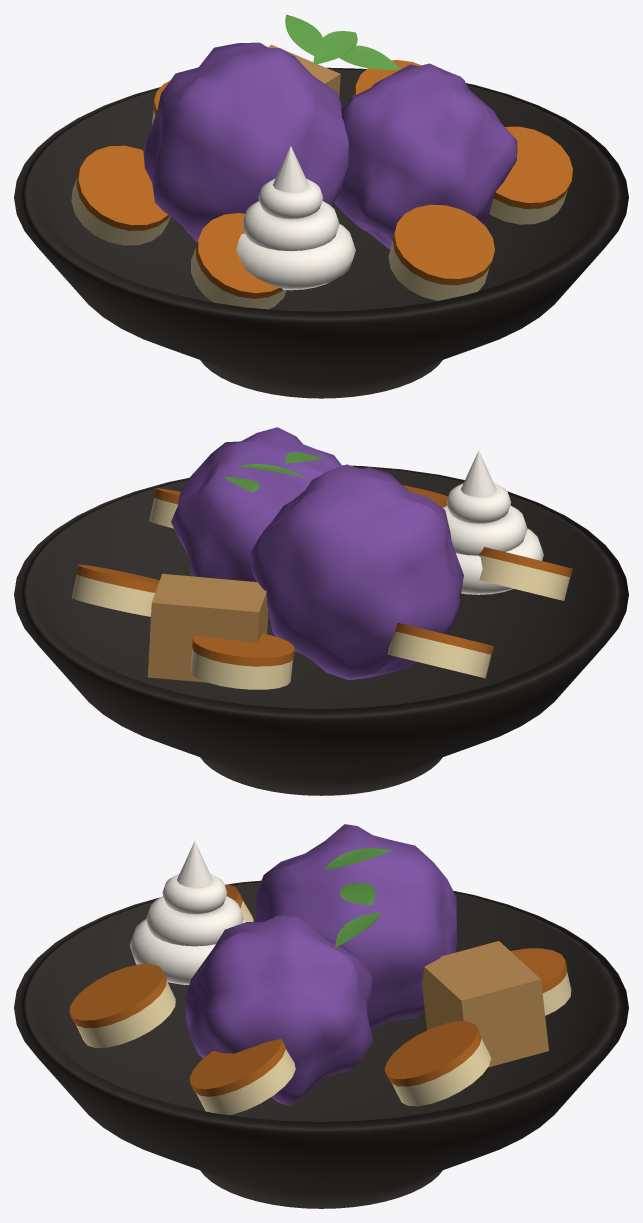
Rendered from banana-sundae.glb.
3 renders of one model, top to bottom at view 1: azimuth 30°, elevation 25°; view 2: azimuth 150°, elevation 25°; view 3: azimuth 270°, elevation 25°, orthographic.
Visible parts, largest first — view 1: stoneware, ube_ice_cream, caramelized_banana, whipped_cream, banana, mint, banana_cake; view 2: stoneware, ube_ice_cream, banana, banana_cake, whipped_cream, caramelized_banana, mint; view 3: stoneware, ube_ice_cream, caramelized_banana, banana_cake, whipped_cream, banana, mint.
Part boxes in pixels (x1=…): stoneware: x1=14, y1=67, x2=628, y2=398; ube_ice_cream: x1=143, y1=42, x2=517, y2=249; caramelized_banana: x1=76, y1=60, x2=572, y2=298; whipped_cream: x1=236, y1=146, x2=355, y2=290; banana: x1=71, y1=94, x2=567, y2=309; mint: x1=285, y1=14, x2=400, y2=69; banana_cake: x1=268, y1=44, x2=340, y2=97; stoneware: x1=14, y1=465, x2=628, y2=795; ube_ice_cream: x1=171, y1=427, x2=463, y2=680; banana: x1=71, y1=498, x2=569, y2=689; banana_cake: x1=147, y1=573, x2=268, y2=682; whipped_cream: x1=443, y1=450, x2=543, y2=594; caramelized_banana: x1=76, y1=485, x2=572, y2=666; mint: x1=224, y1=452, x2=323, y2=491; stoneware: x1=14, y1=880, x2=628, y2=1208; ube_ice_cream: x1=185, y1=824, x2=457, y2=1106; caramelized_banana: x1=69, y1=884, x2=567, y2=1096; banana_cake: x1=422, y1=941, x2=548, y2=1067; whipped_cream: x1=130, y1=841, x2=247, y2=984; banana: x1=75, y1=900, x2=571, y2=1115; mint: x1=323, y1=848, x2=391, y2=947.
Size of the model in its own units: 0.17 by 0.093 by 0.17.
